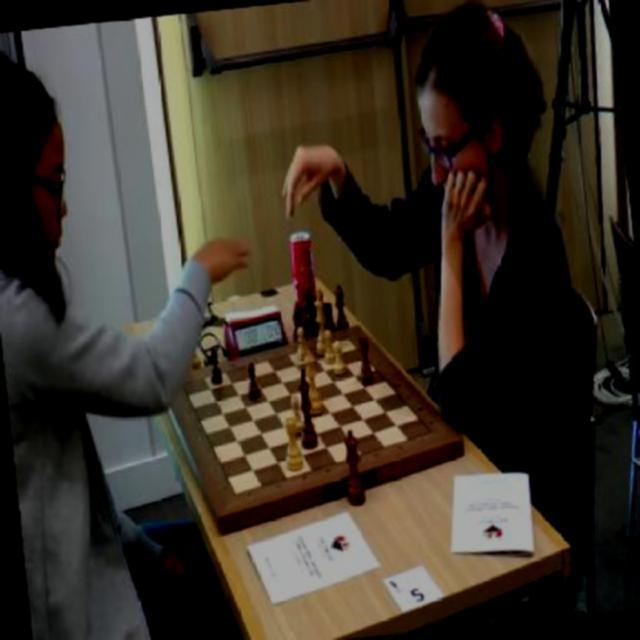non-fight: (270, 0, 592, 545), (0, 36, 214, 638)
